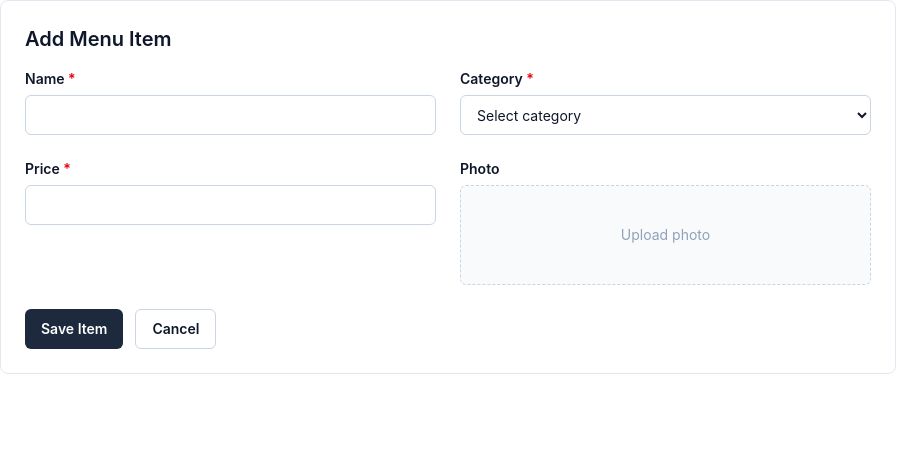
AddMenuItemForm › AC1 — name required › reject: an empty name shows the banner and "Name is required" inline error, and no POST is attempted
The width and height of the screenshot is (913, 475).
Select "cat-1" in the dropdown labelled "Category *" at (666, 115), box [460,95,871,135]
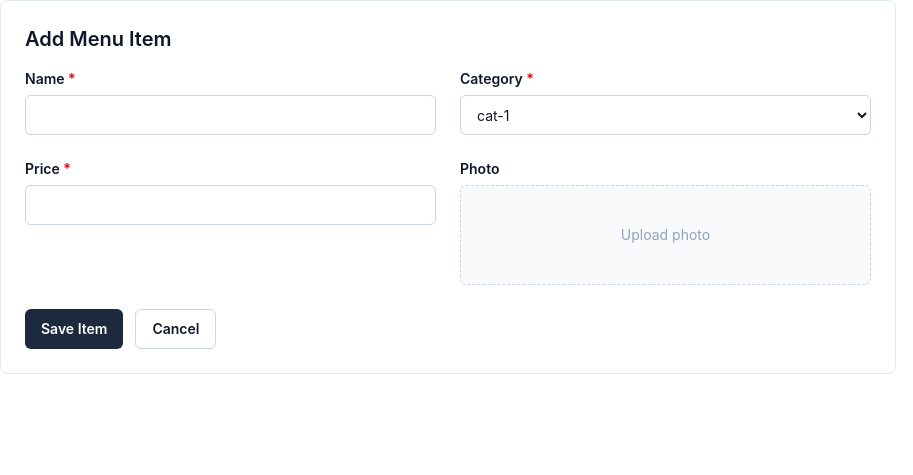
Type "12.5" into the number field labelled "Price *" at (230, 205), box [25,185,436,225]
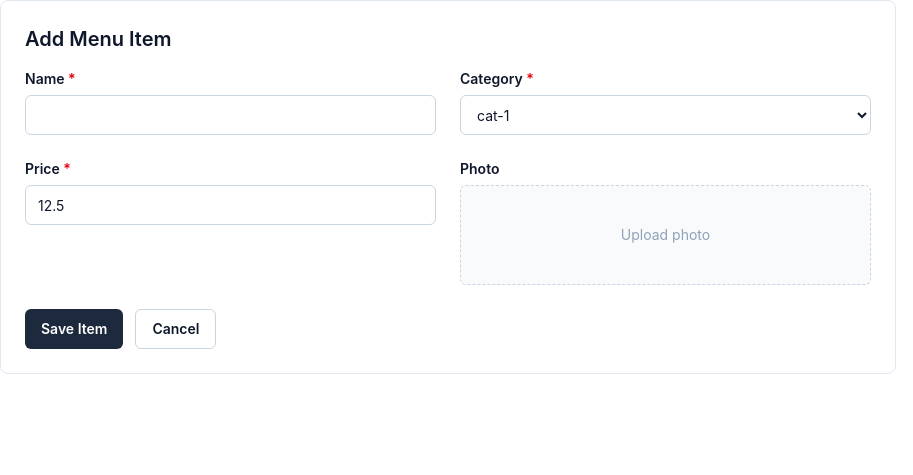
Click the button "Save Item" at (74, 329), box [25,309,124,349]
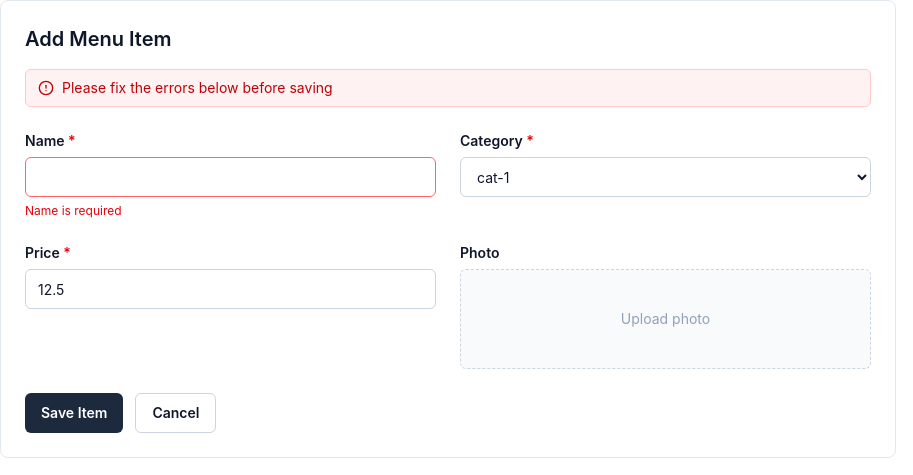
Expected: the text "Please fix the errors below before saving" is shown, [25,69,871,107]
Expected: the text "Name is required" is shown, [25,203,122,218]
